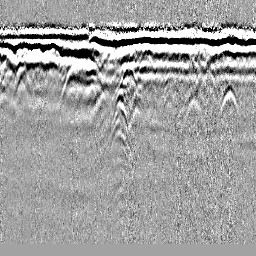cavity: (119, 63, 137, 86)
